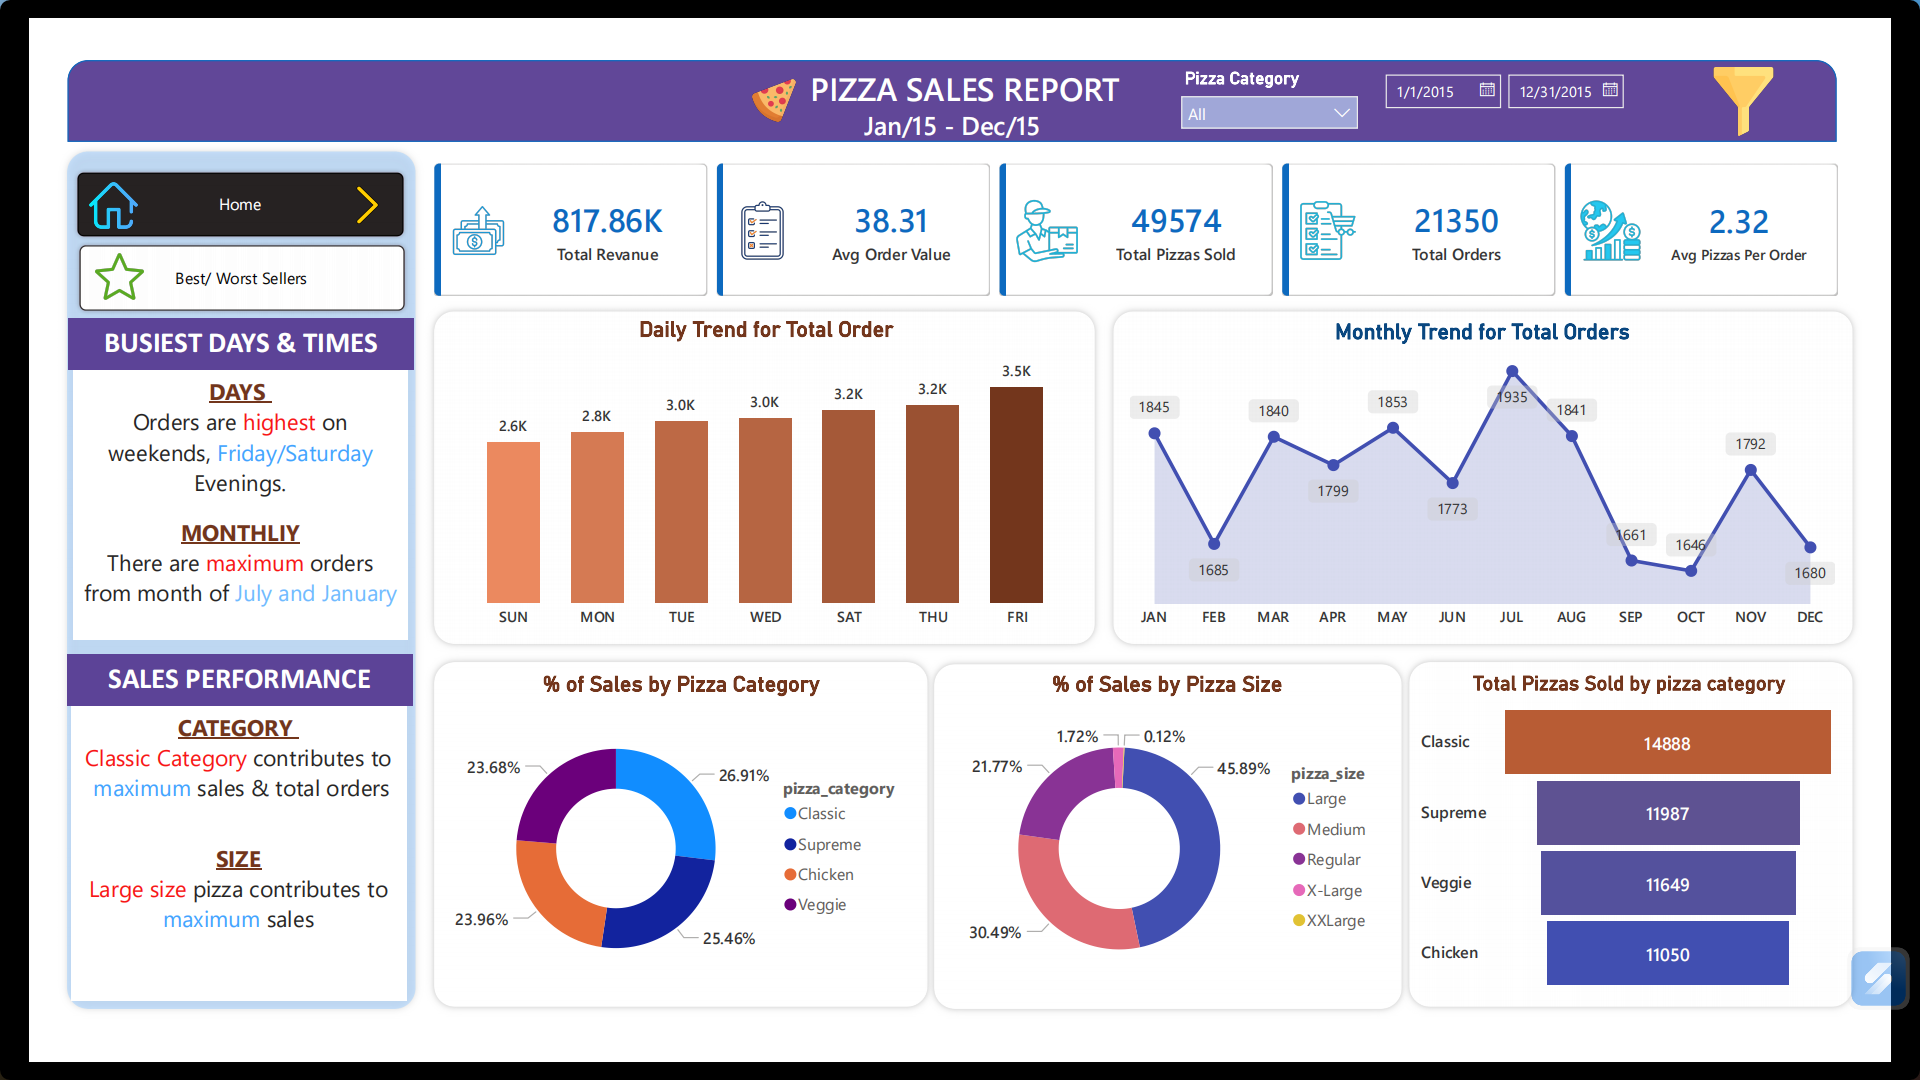

This screenshot's page, from the dashboard's own definition file:
{"tool":"powerbi","page":{"name":"Home","canvas":[1500,820],"ordinal":0},"visuals":[{"type":"cardVisual","fields":{"Data":["pizza_sales.Total Revanue","pizza_sales.Avg Order Value","pizza_sales.Total Pizzas Sold","pizza_sales.Total Orders","pizza_sales.Avg Pizzas Per Order"]},"box":[295.7,80,1204.3,144.3],"z":0},{"type":"shape","box":[8.4,11.1,1470.7,68],"z":1000},{"type":"textbox","box":[594.7,11.1,318.9,46],"z":2000},{"type":"textbox","box":[654.6,44.6,178.3,44.6],"z":3000},{"type":"image","box":[575.2,26.5,40.4,36.2],"z":4000},{"type":"shape","box":[305,211.7,565.4,292.5],"z":5000},{"type":"shape","box":[870.4,211.7,629.5,292.5],"z":6000},{"type":"shape","box":[305,504.1,426.2,302.2],"z":7000},{"type":"shape","box":[721.4,505.5,403.9,302.2],"z":8000},{"type":"shape","box":[1115.5,504.1,384.4,302.2],"z":9000},{"type":"shape","box":[0,79.4,305,728.4],"z":10000},{"type":"columnChart","title":"Daily Trend for Total Order","fields":{"Y":["pizza_sales.Total Orders"],"Category":["pizza_sales.Order Days"]},"box":[324.5,224.2,529.2,267.4],"z":11000},{"type":"areaChart","title":"Monthly Trend for Total Orders","fields":{"Category":["pizza_sales.Order Month"],"Y":["pizza_sales.Total Orders"]},"box":[887.1,225.6,594.7,266],"z":12000},{"type":"donutChart","title":"% of Sales by Pizza Category","fields":{"Category":["pizza_sales.pizza_category"],"Y":["pizza_sales.Total Revanue"]},"box":[320,518.6,397.1,274.3],"z":13000},{"type":"donutChart","title":"% of Sales by Pizza Size","fields":{"Y":["pizza_sales.Total Revanue"],"Category":["pizza_sales.pizza_size"]},"box":[734.3,518.6,377.1,274.3],"z":14000},{"type":"funnel","title":"Total Pizzas Sold by pizza category","fields":{"Category":["pizza_sales.pizza_category"],"Y":["pizza_sales.Total Pizzas Sold"]},"box":[1128.6,518.6,355.7,274.3],"z":15000},{"type":"textbox","box":[8.6,225.7,287.1,42.9],"z":16000},{"type":"textbox","box":[12.5,268.8,278.8,223.8],"z":17000},{"type":"textbox","box":[7.5,505,287.5,42.5],"z":18000},{"type":"textbox","box":[11.2,547.5,278.8,245],"z":19000},{"type":"slicer","fields":{"Values":["pizza_sales.pizza_category"]},"box":[923.8,12.5,167.5,67.5],"z":20000},{"type":"slicer","fields":{"Values":["pizza_sales.order_date"]},"box":[1091.4,12.9,227.1,67.1],"z":21000},{"type":"pageNavigator","box":[12.9,101.4,278.6,60],"z":22000},{"type":"pageNavigator","box":[14.3,161.4,278.6,62.9],"z":23000},{"type":"image","box":[25.7,108.6,40,45.7],"z":24000},{"type":"image","box":[1347.1,17.1,108.6,57.1],"z":25000},{"type":"image","box":[237.1,115.7,40,31.4],"z":26000},{"type":"image","box":[25.7,171.4,50,40],"z":27000}]}

Visuals, with their boxes in screenshot pixels (x1, y1, x2, y2), scaled from the page's 1500x820 canvas onto the 1920x1080 screenshot:
cardVisual - pizza_sales.Total Revanue x pizza_sales.Avg Order Value: [378, 105, 1919, 295]
shape: [11, 15, 1893, 104]
textbox: [761, 15, 1169, 75]
textbox: [838, 59, 1066, 117]
image: [736, 35, 788, 83]
shape: [390, 279, 1114, 664]
shape: [1114, 279, 1919, 664]
shape: [390, 664, 936, 1062]
shape: [923, 666, 1440, 1064]
shape: [1428, 664, 1919, 1062]
shape: [0, 105, 390, 1064]
"Daily Trend for Total Order" columnChart: [415, 295, 1093, 647]
"Monthly Trend for Total Orders" areaChart: [1135, 297, 1897, 647]
"% of Sales by Pizza Category" donutChart: [410, 683, 918, 1044]
"% of Sales by Pizza Size" donutChart: [940, 683, 1423, 1044]
"Total Pizzas Sold by pizza category" funnel: [1445, 683, 1900, 1044]
textbox: [11, 297, 378, 354]
textbox: [16, 354, 373, 649]
textbox: [10, 665, 378, 721]
textbox: [14, 721, 371, 1044]
slicer - pizza_sales.pizza_category: [1182, 16, 1397, 105]
slicer - pizza_sales.order_date: [1397, 17, 1688, 105]
pageNavigator: [17, 134, 373, 213]
pageNavigator: [18, 213, 375, 295]
image: [33, 143, 84, 203]
image: [1724, 23, 1863, 98]
image: [303, 152, 355, 194]
image: [33, 226, 97, 278]
